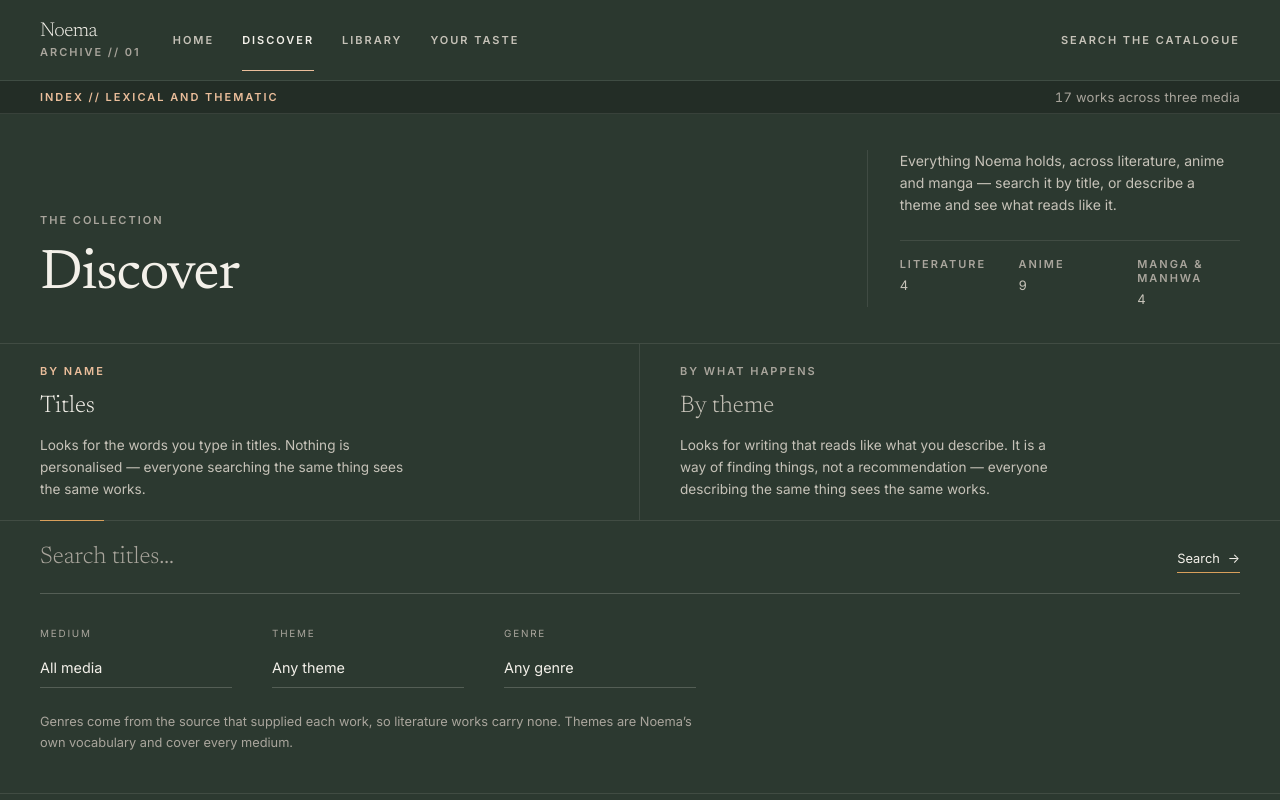
Test: Discover › searches titles lexically, on the server
The image size is (1280, 800).
In the search field labelled "Search titles": (597, 557) left=40, top=541, right=1153, bottom=573, type "alice"
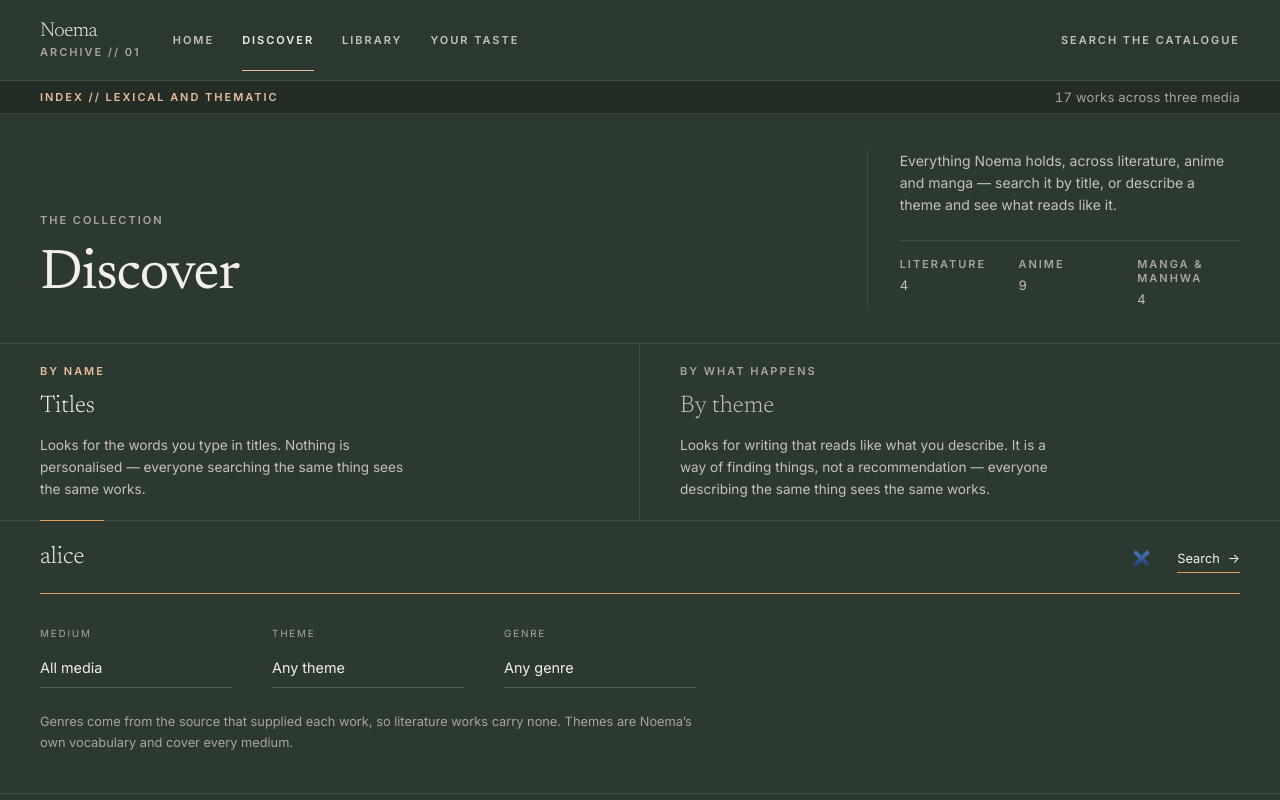
Click the button "Search →": click(1209, 561) left=1177, top=549, right=1240, bottom=573
(page scrolled)
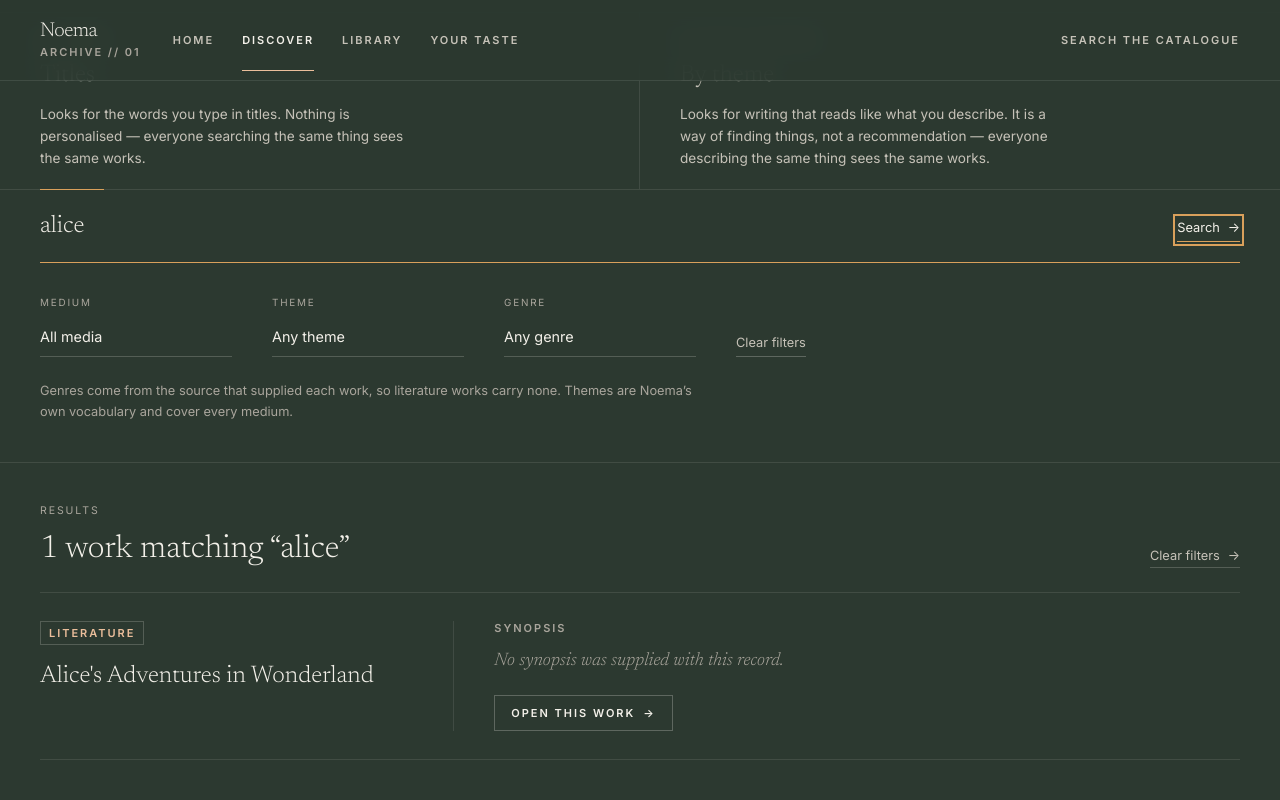
Result: the heading "1 work matching “alice”" is shown at left=40, top=531, right=350, bottom=568
